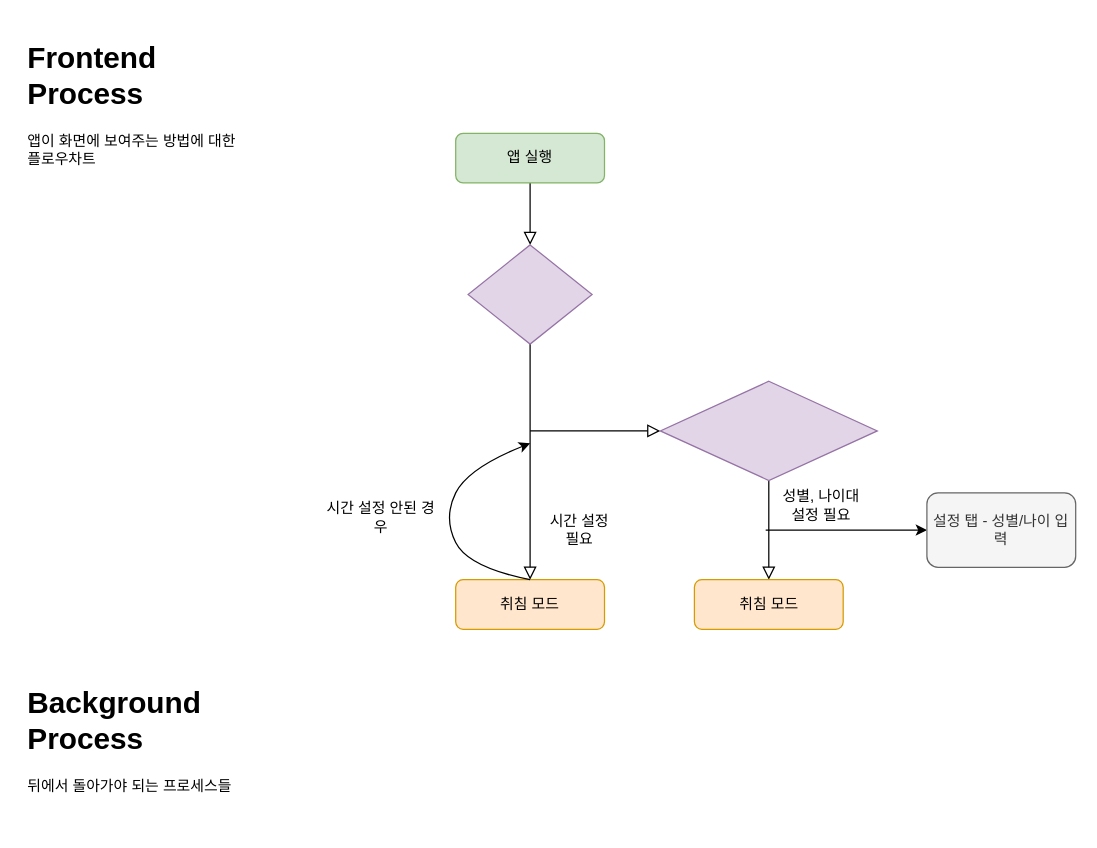
This 1097x848 diagram has some shape labels left out. Here are the shapes that lost their labels. From the top down, the centre of each, then its label:
At (x=529, y=294): "Home".
At (x=768, y=430): "아무때나 일어나도 상관없음".
